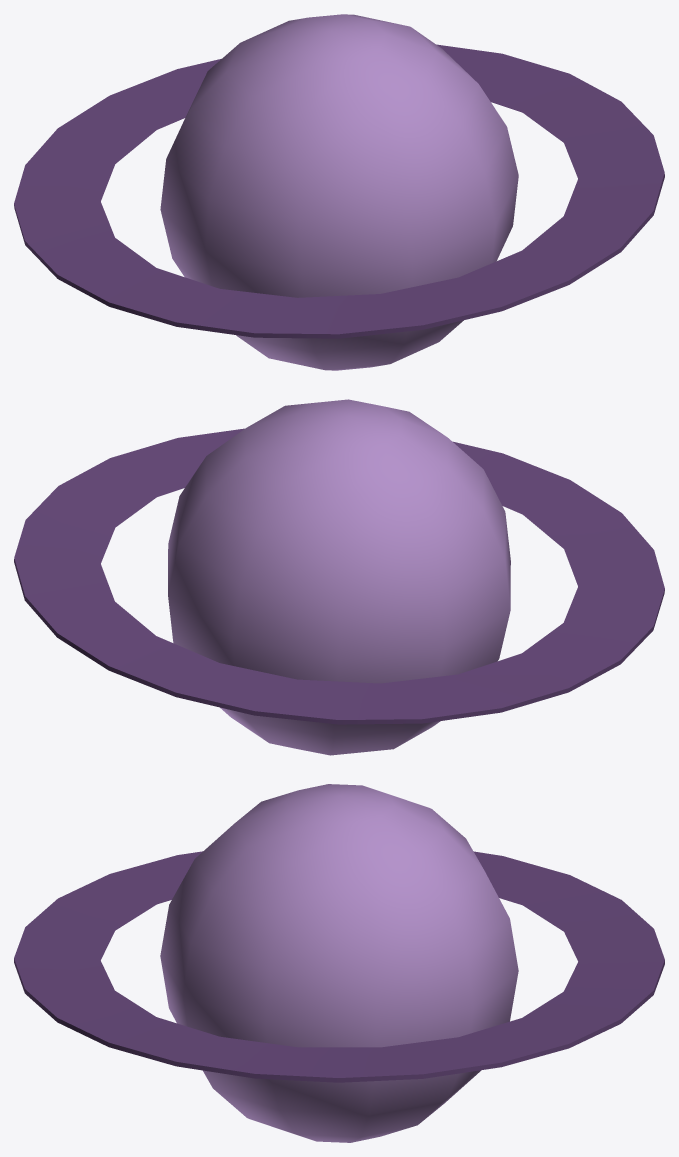
File: Colony_Planet_02_Art.fbx
The picture shows the model from 3 angles, top to bottom: view 1: azimuth 30°, elevation 25°; view 2: azimuth 150°, elevation 25°; view 3: azimuth 270°, elevation 25°; orthographic projection.
Visible parts, largest first — view 1: Colony_Planet_02_Art; view 2: Colony_Planet_02_Art; view 3: Colony_Planet_02_Art.
Boxes of the visible parts, x1,y1,x2,y2 form: Colony_Planet_02_Art: (14, 14, 664, 370); Colony_Planet_02_Art: (14, 399, 664, 755); Colony_Planet_02_Art: (14, 784, 664, 1142).
Size of the model in its own units: 250 by 138 by 251.
